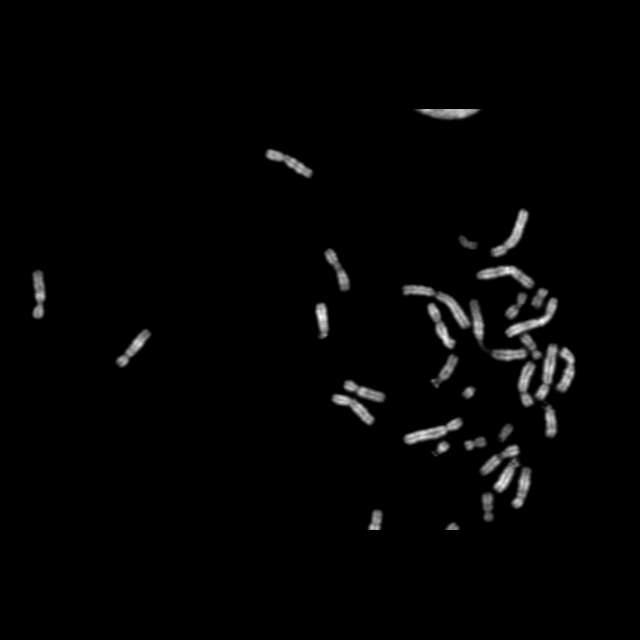chromosome: (402, 286, 470, 328), (505, 300, 559, 336), (492, 208, 528, 256), (403, 418, 462, 444), (267, 148, 311, 178), (118, 329, 150, 367), (478, 266, 532, 288), (535, 345, 557, 399), (332, 396, 373, 424), (428, 304, 454, 348), (481, 444, 519, 474), (326, 248, 348, 290), (431, 354, 457, 388), (556, 348, 576, 392), (344, 380, 384, 402), (468, 299, 486, 345), (512, 468, 532, 508), (494, 460, 518, 492), (518, 362, 534, 406), (32, 270, 46, 318), (520, 334, 542, 358), (506, 292, 526, 318), (316, 303, 328, 339), (492, 349, 526, 361), (544, 406, 556, 436), (532, 288, 548, 308), (464, 438, 488, 450), (456, 236, 476, 250), (482, 494, 492, 522), (370, 509, 382, 529), (497, 425, 511, 441), (436, 442, 448, 456), (462, 387, 476, 398)
